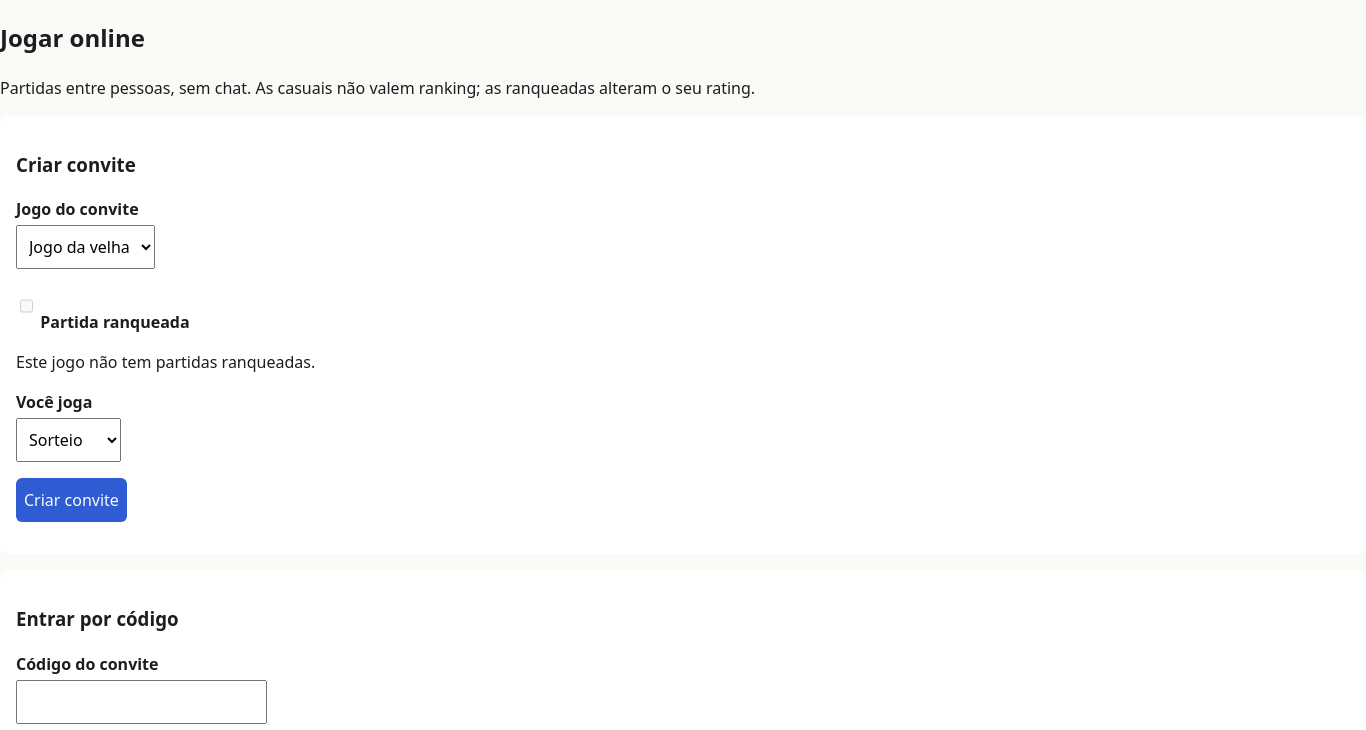
it: entrar por código abre a partida; código inválido mostra o erro
Type "ZZZZZZZZ" into the field labelled "Código do convite" at point(142, 702), box [16,680,267,724]
(page scrolled)
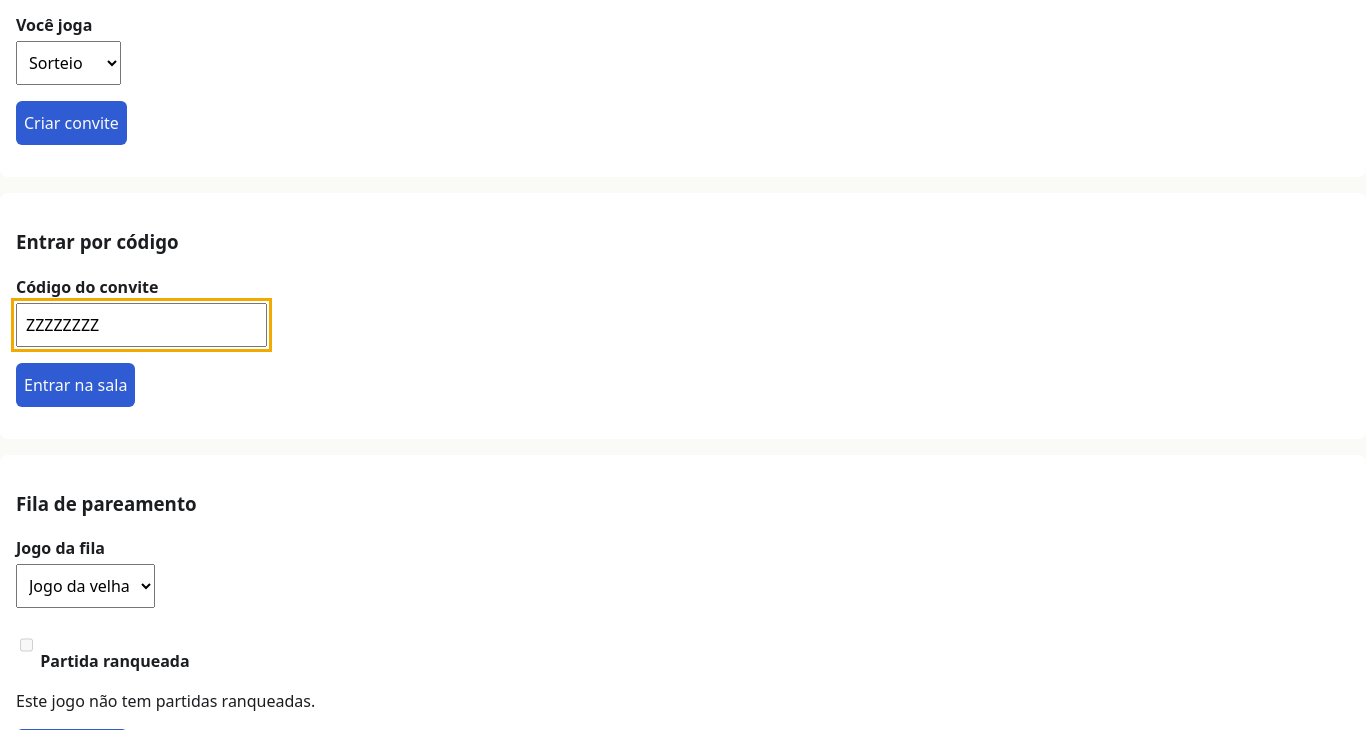
Click the button "Entrar na sala" at point(76, 385), box [16,363,135,407]
(page scrolled)
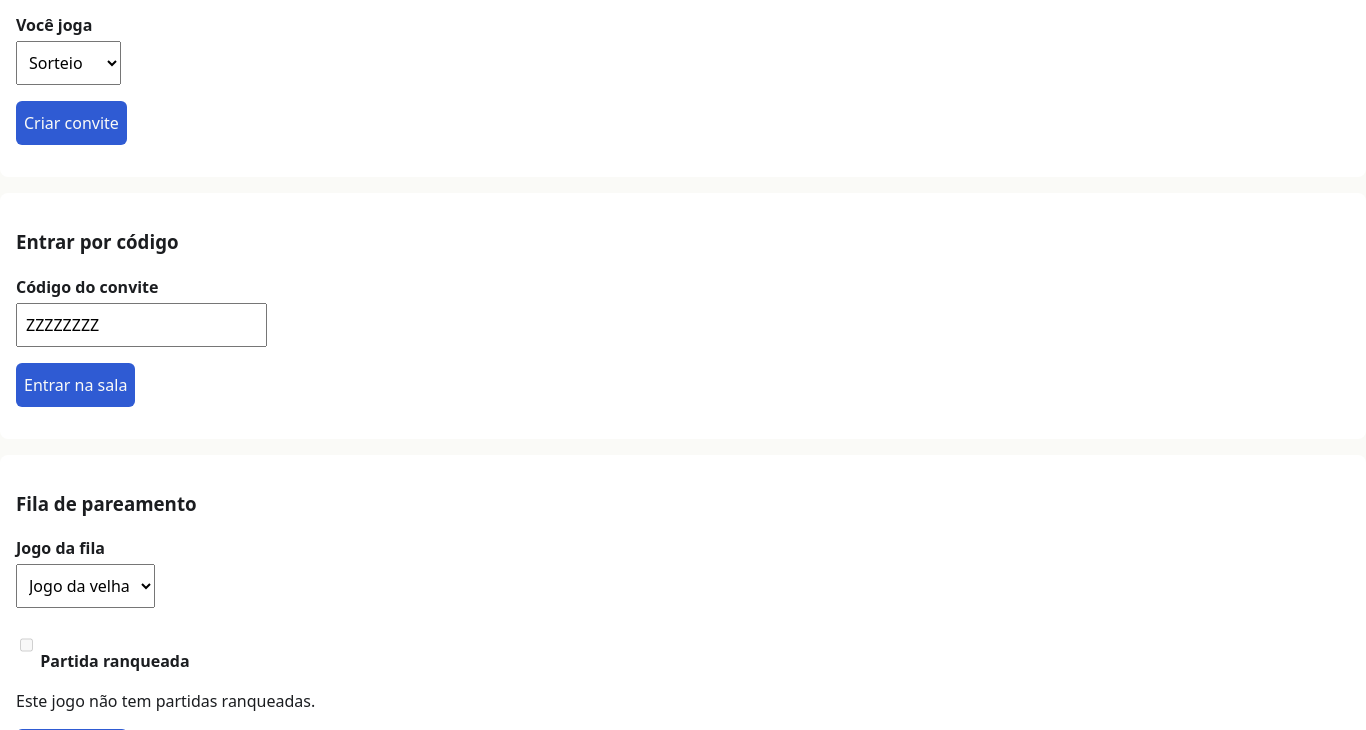
Replace the text in the field labelled "Código do convite" with "ABCD2345" at point(142, 325), box [16,303,267,347]
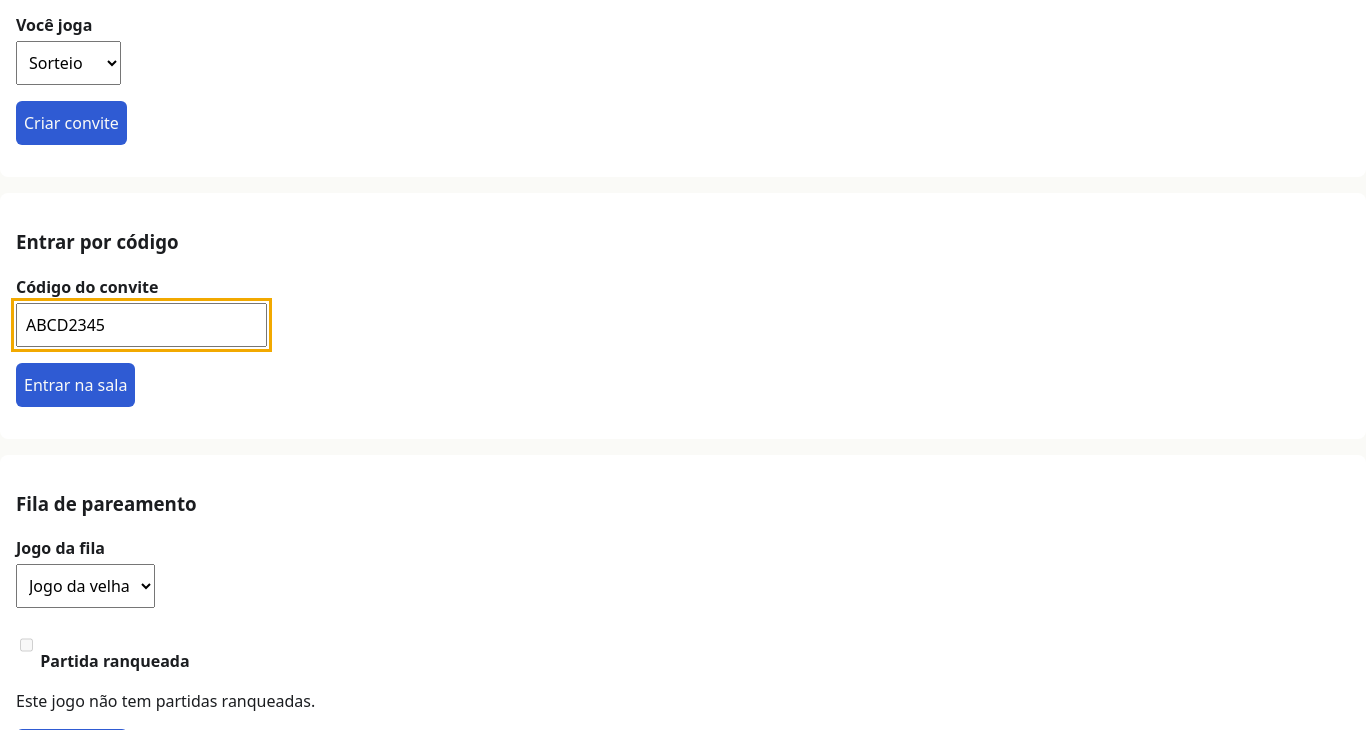
Click the button "Entrar na sala" at point(76, 385), box [16,363,135,407]
(page scrolled)
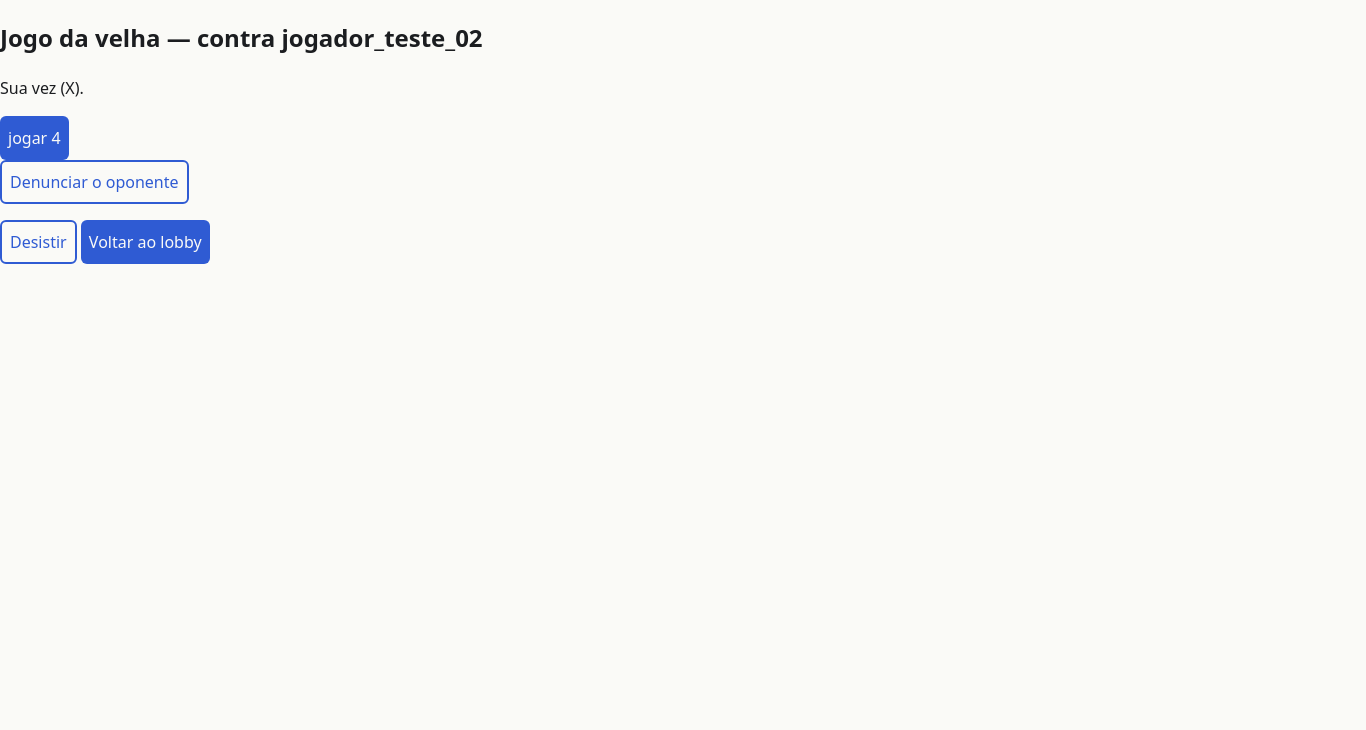
Expected: the heading "Jogo da velha — contra jogador_teste_02" is shown, [0,21,483,54]
